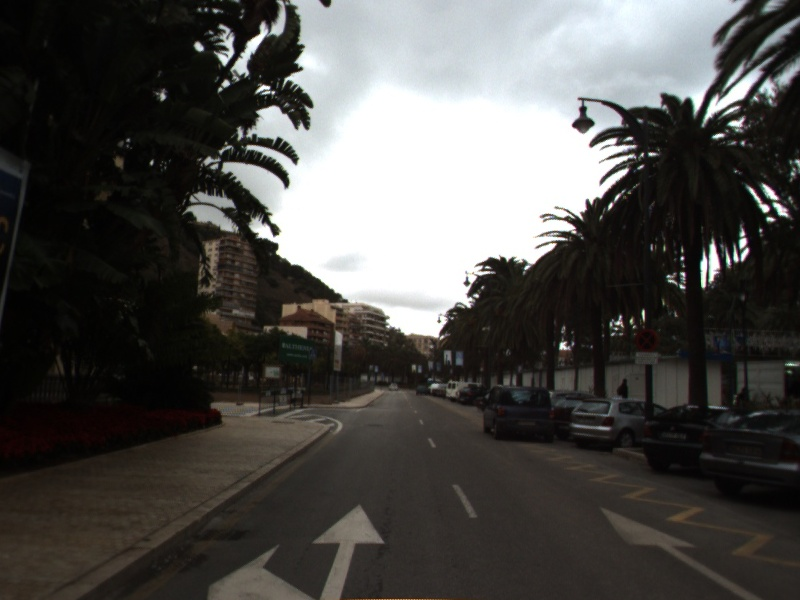STRAIGHT: (597, 504, 766, 600)
STRAIGHT_LEFT: (205, 502, 387, 600)
